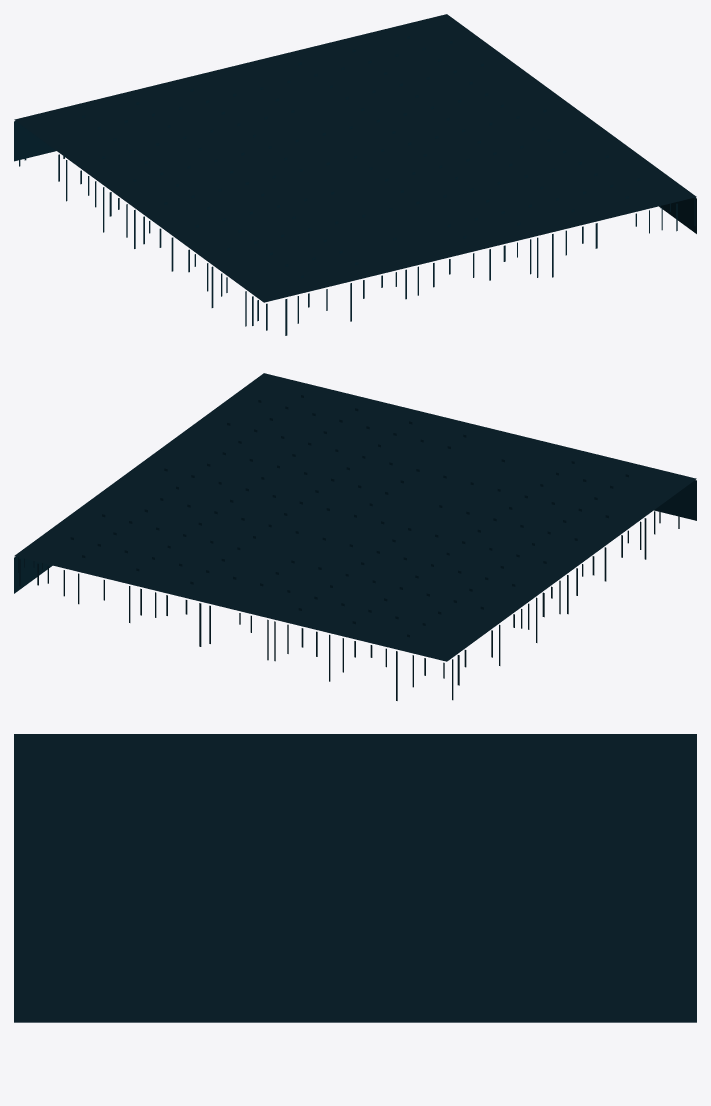
The model's file is floor_glass_8.glb.
3 renders of one model, top to bottom at view 1: azimuth 30°, elevation 25°; view 2: azimuth 150°, elevation 25°; view 3: azimuth 270°, elevation 25°, orthographic. The views are drawn at different scales.
Visible parts, largest first — view 1: slab_glass, floor_glass_streaks_hang, slab_seams, floor_glass_skirt; view 2: slab_glass, floor_glass_streaks_hang, slab_seams, floor_glass_skirt; view 3: slab_glass.
Boxes of the visible parts, x1=… form: slab_glass: x1=14, y1=14, x2=696, y2=302; floor_glass_streaks_hang: x1=16, y1=122, x2=695, y2=335; slab_seams: x1=82, y1=36, x2=640, y2=278; floor_glass_skirt: x1=14, y1=121, x2=696, y2=233; slab_glass: x1=14, y1=373, x2=696, y2=661; floor_glass_streaks_hang: x1=18, y1=481, x2=694, y2=700; slab_seams: x1=70, y1=395, x2=628, y2=637; floor_glass_skirt: x1=14, y1=480, x2=696, y2=593; slab_glass: x1=14, y1=734, x2=696, y2=1022.
Size of the model in its own units: 8.03 by 0.9511 by 8.
